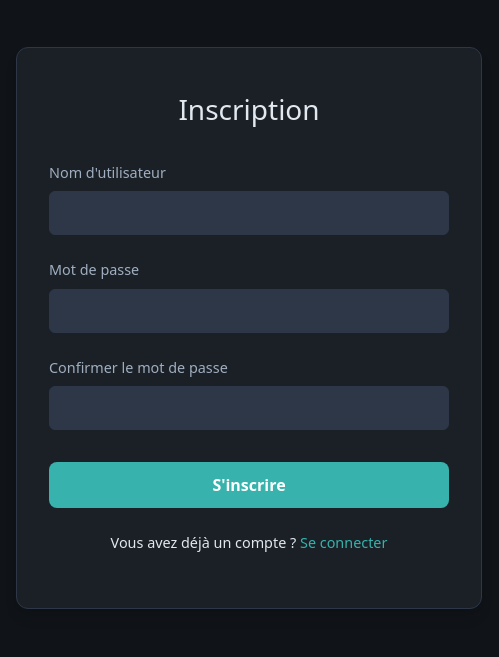
RegisterPage › devrait afficher une erreur si le nom d'utilisateur est déjà pris (erreur 409)
Type "existinguser" into the field labelled "Nom d'utilisateur" at (249, 213), box [49, 191, 449, 235]
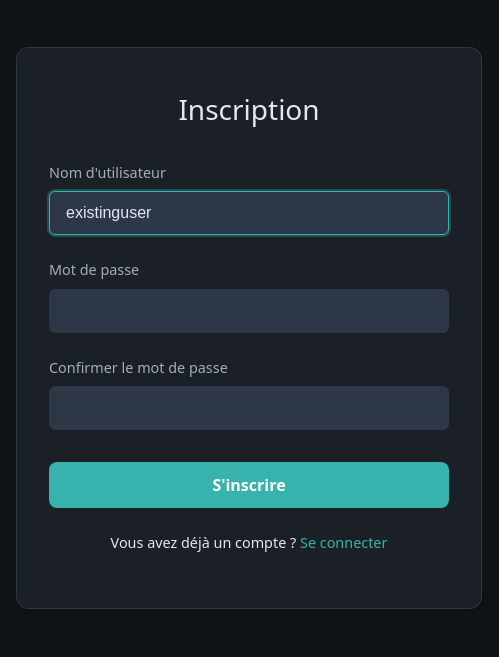
Type "password123" into the password field labelled "Mot de passe" at (249, 311), box [49, 289, 449, 333]
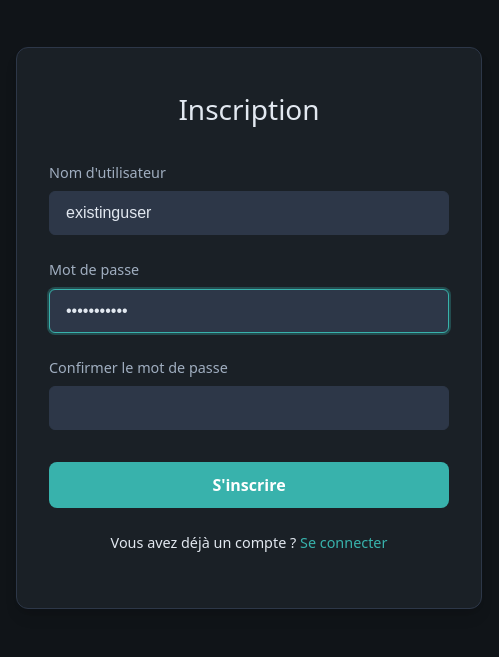
Type "password123" into the password field labelled "Confirmer le mot de passe" at (249, 408), box [49, 386, 449, 430]
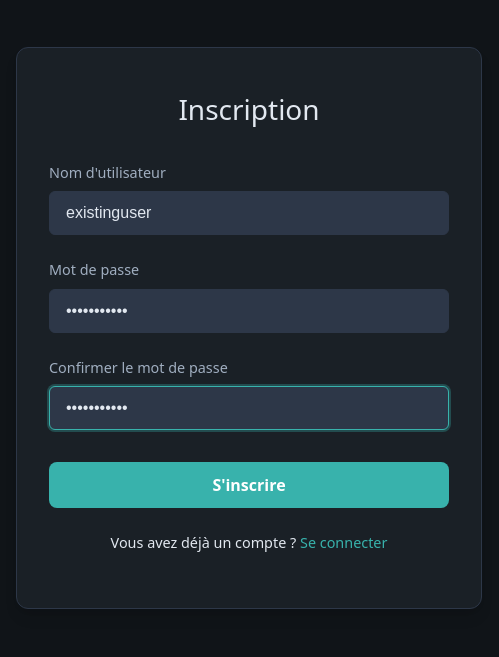
Click the button "S'inscrire" at (249, 485), box [49, 462, 449, 508]
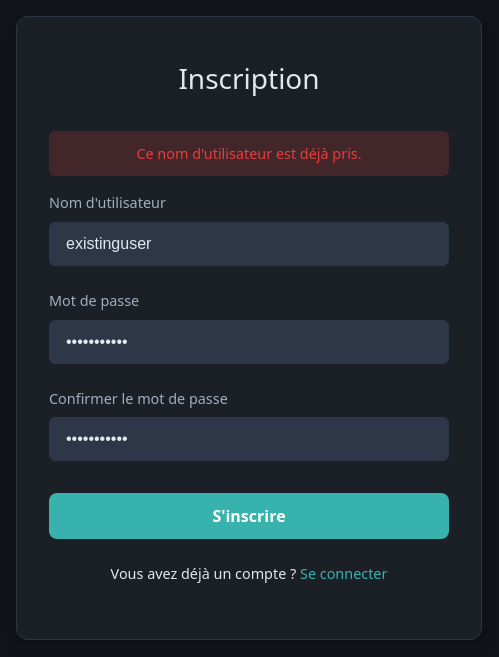
Expected: the text "Ce nom d'utilisateur est déjà pris." is shown, [49, 131, 449, 176]
